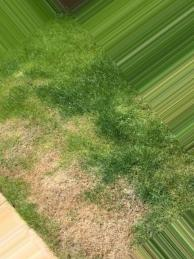patch: (32, 134, 73, 214), (65, 219, 104, 238), (9, 128, 23, 162), (83, 205, 101, 215), (75, 176, 91, 185)
